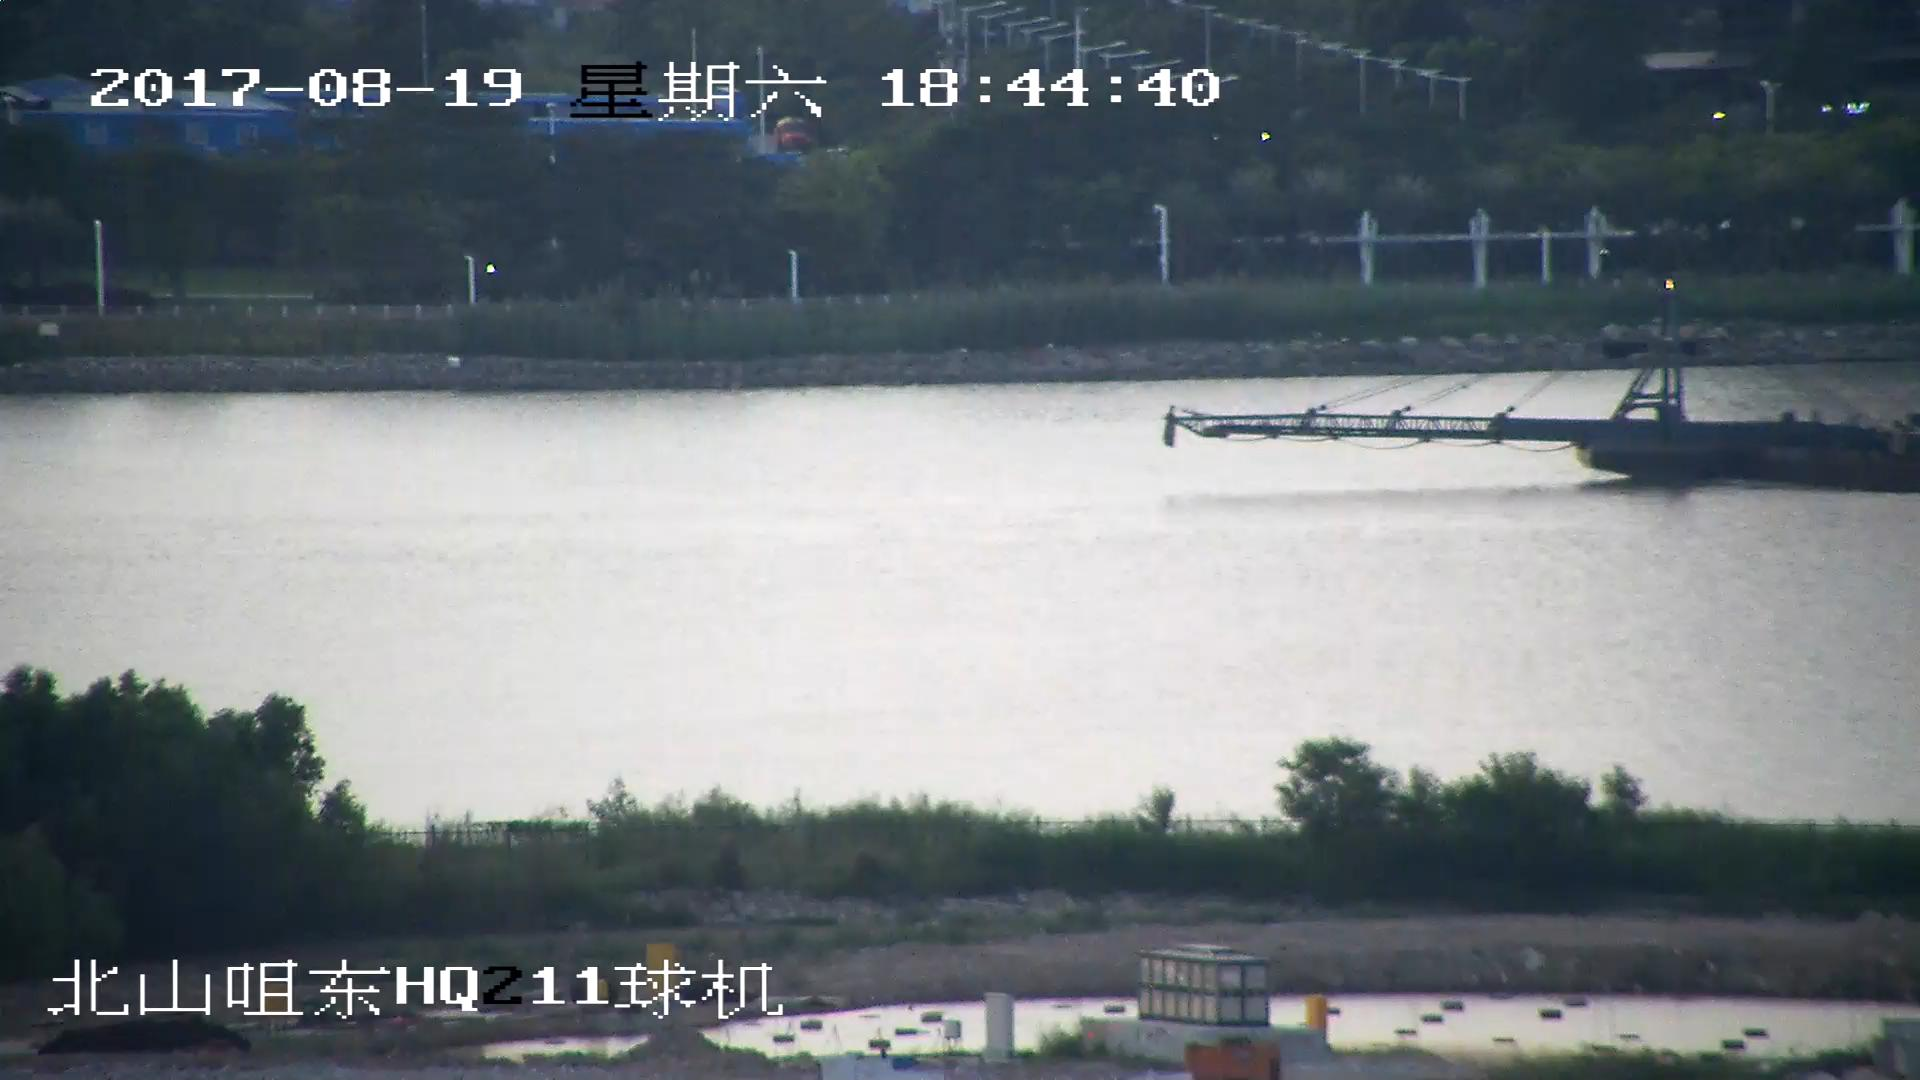ore carrier: (1164, 284, 1920, 488)
